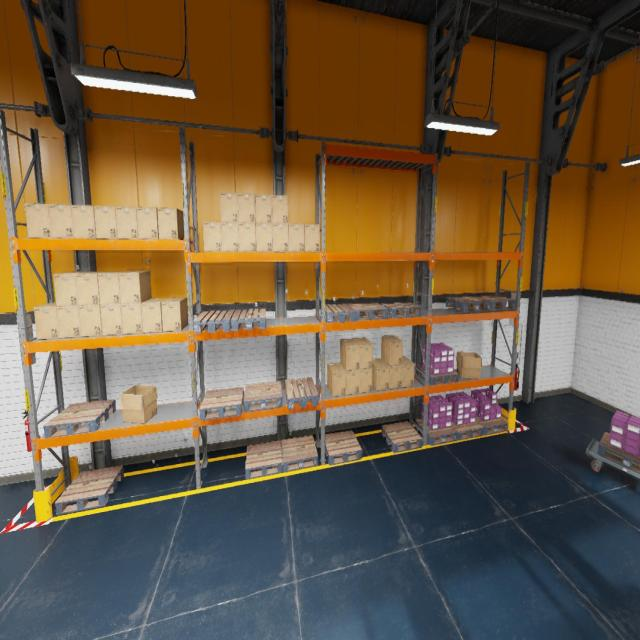box: (120, 384, 158, 424), (54, 271, 90, 306), (76, 272, 108, 306), (98, 271, 130, 304), (119, 271, 151, 303), (24, 203, 52, 238), (141, 298, 169, 332), (34, 302, 59, 339), (161, 297, 188, 331), (48, 204, 74, 238), (157, 208, 184, 240), (71, 204, 96, 238), (94, 205, 118, 239), (56, 306, 81, 338), (78, 304, 102, 336), (115, 206, 138, 239), (136, 207, 159, 239), (456, 351, 482, 379), (100, 304, 123, 335), (381, 334, 403, 366), (327, 362, 346, 397), (340, 338, 360, 371), (120, 304, 142, 334), (353, 337, 373, 369), (382, 358, 402, 388), (202, 221, 222, 251), (372, 358, 390, 390), (220, 192, 238, 222), (342, 364, 359, 395), (221, 222, 239, 251), (238, 192, 255, 222), (238, 223, 256, 251), (255, 194, 272, 223), (272, 194, 288, 223), (288, 224, 304, 252), (256, 223, 272, 251), (272, 224, 288, 252), (304, 224, 320, 251), (402, 356, 414, 387), (360, 368, 372, 393)
pallets: (55, 465, 123, 515), (43, 399, 116, 438), (598, 432, 640, 473), (199, 386, 244, 421), (245, 440, 282, 480), (281, 435, 318, 472), (382, 420, 422, 452), (325, 430, 361, 465), (244, 381, 282, 412), (415, 418, 457, 446), (285, 377, 318, 409), (193, 310, 234, 333), (416, 364, 458, 384), (231, 308, 266, 331), (446, 296, 490, 312), (321, 303, 356, 323), (347, 303, 388, 320), (471, 295, 516, 310), (382, 302, 422, 318), (476, 415, 508, 435), (452, 421, 483, 440)
